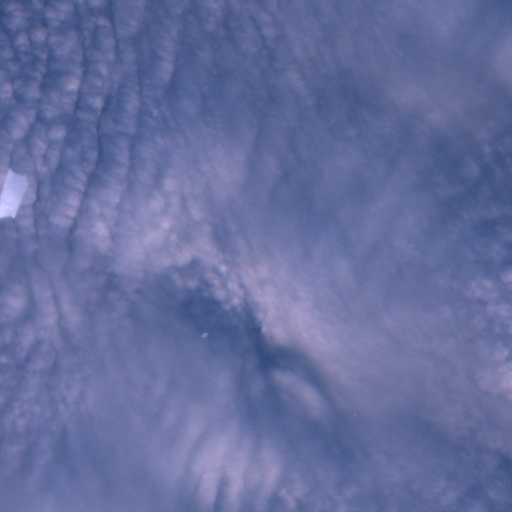Iceberg: (0, 170, 26, 216), (202, 333, 207, 337)
